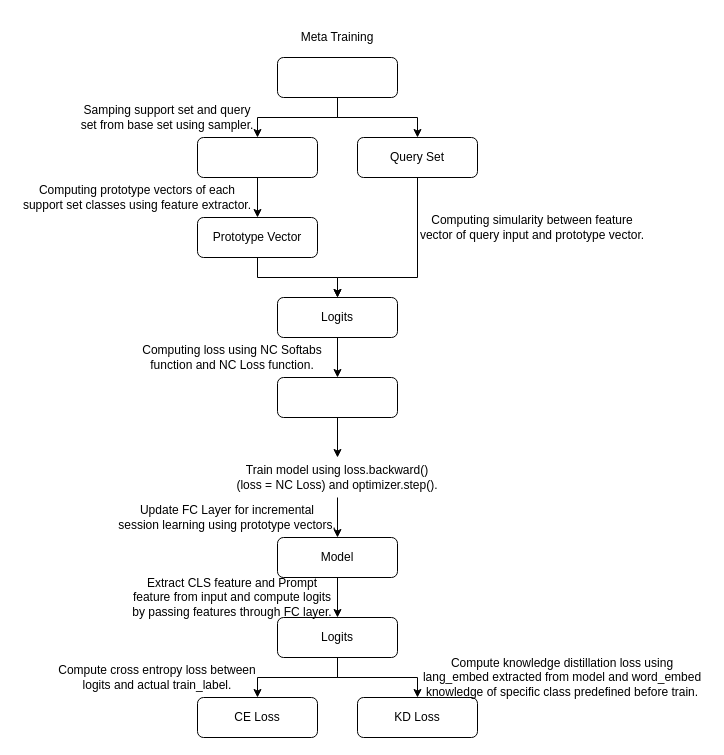
Image size: 724x755. Some labels were removed from this diagram. The shapes that lost their labels are listed below. From the top down, each one's centre as x and y in pixels, then its label:
point (337, 77): Base Set
point (257, 157): Support Set
point (337, 397): NC Loss
